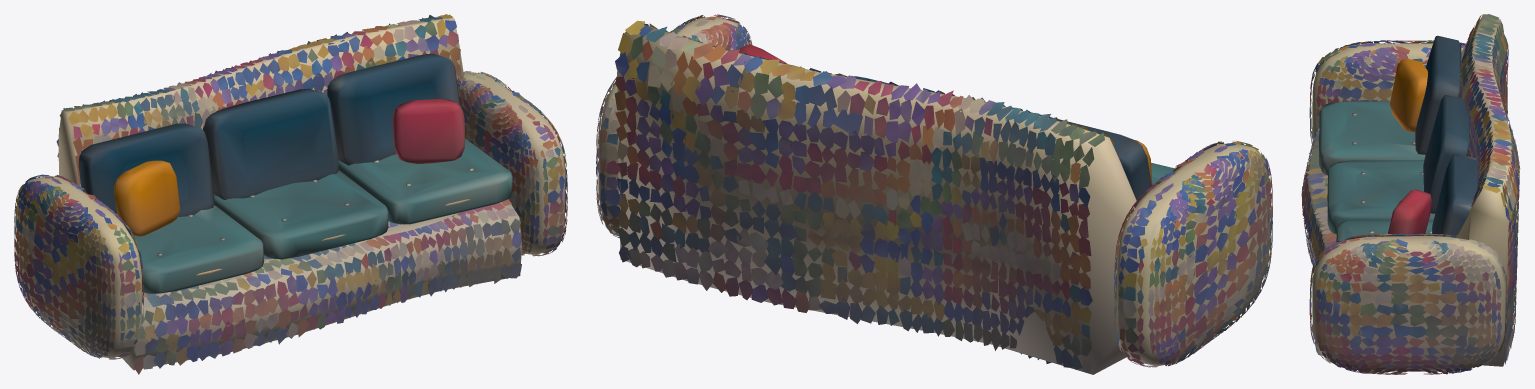
Rendered from gaudi_kanepe.glb.
The picture shows the model from 3 angles, left to right: view 1: azimuth 30°, elevation 25°; view 2: azimuth 150°, elevation 25°; view 3: azimuth 270°, elevation 25°; orthographic projection. The views are drawn at different scales.
Visible parts, largest first — view 1: gaudi_kanepe_LOD0; view 2: gaudi_kanepe_LOD0; view 3: gaudi_kanepe_LOD0.
Boxes of the visible parts, <box> form: gaudi_kanepe_LOD0: <box>14,14,567,374</box>; gaudi_kanepe_LOD0: <box>596,14,1272,374</box>; gaudi_kanepe_LOD0: <box>1301,14,1520,374</box>.
Size of what is drawn, in the model's own units: 2.56 by 1.01 by 1.1.
